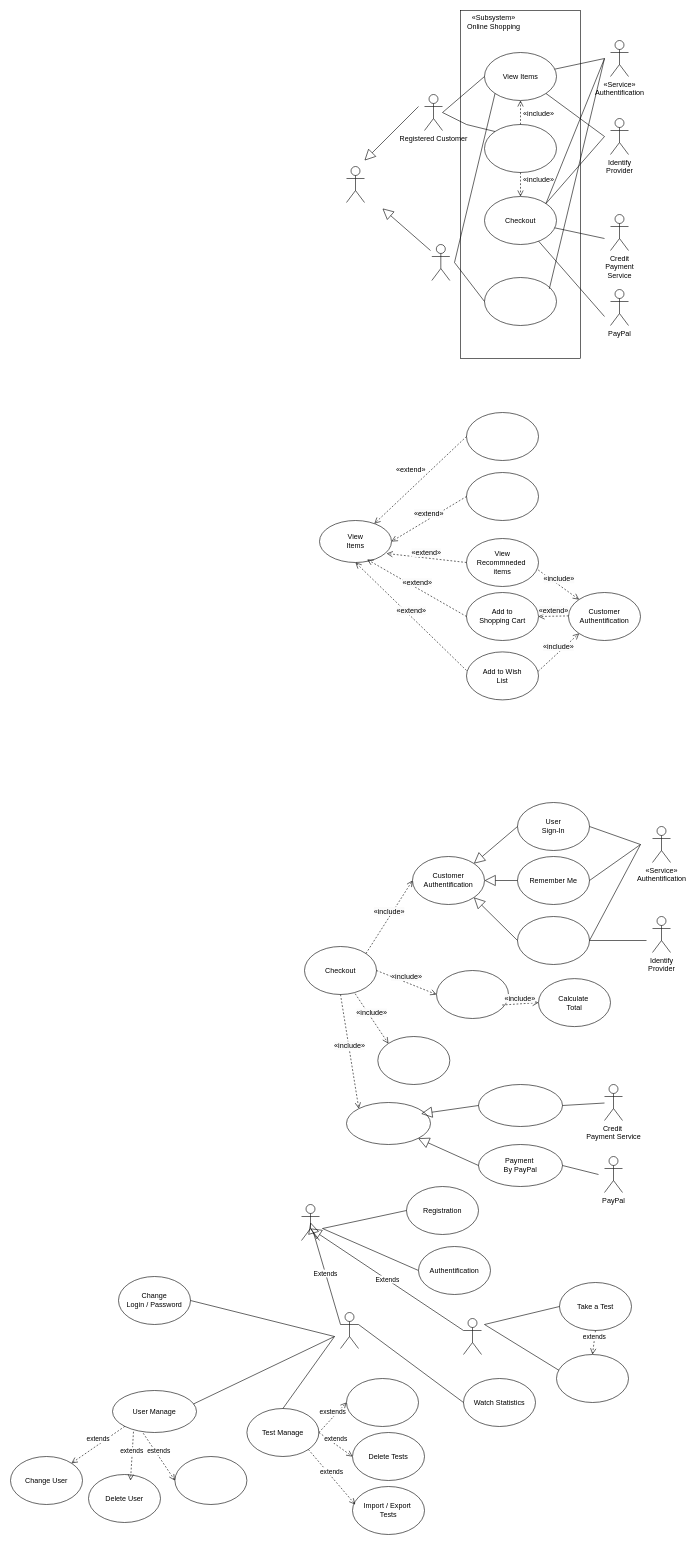
Image size: 697x1545. Some labels were removed from this diagram. Here are the shapes that lost their labels. From the top down, the centre of each, then its label:
At pixel 520 148: "Make Purchase".
At pixel 355 184: "Web Customer".
At pixel 440 262: "New Customer".
At pixel 520 301: "Client Register".
At pixel 502 436: "Search Items".
At pixel 502 496: "Browse Items".
At pixel 553 940: "Simple Sign-On".
At pixel 472 994: "View / Upgrade Shopping Cart".
At pixel 413 1060: "Calculate Taxes and Shipping".
At pixel 388 1123: "Payment".
At pixel 520 1105: "Payment By Credit".
At pixel 310 1222: "User".
At pixel 349 1330: "Admin".
At pixel 472 1336: "Tested".
At pixel 592 1378: "Watch Tests Results".
At pixel 382 1402: "Create Tests".
At pixel 210 1480: "Add User".
